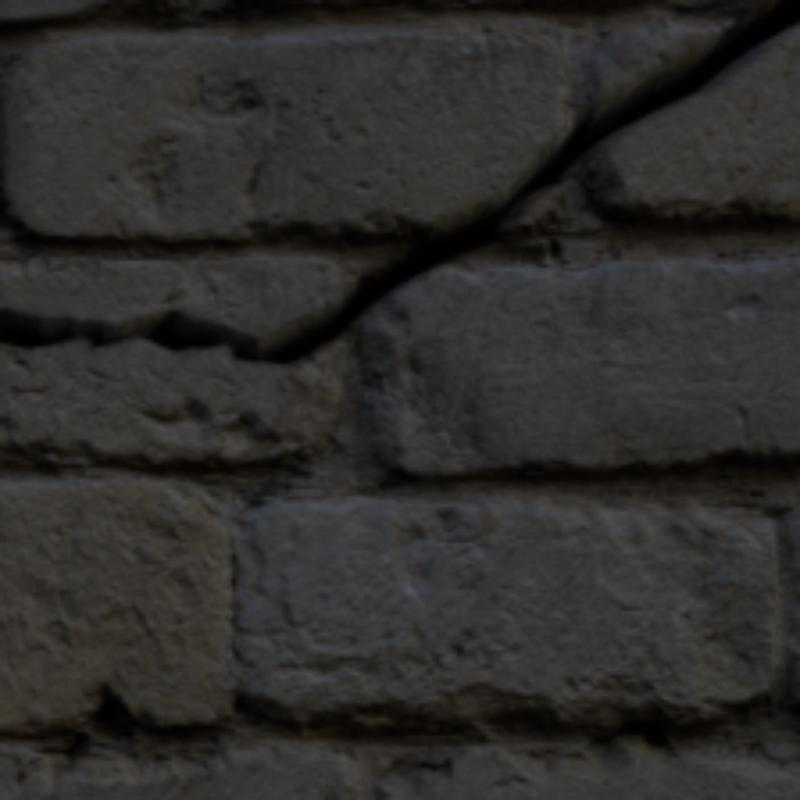pothole: (0, 4, 789, 364)
